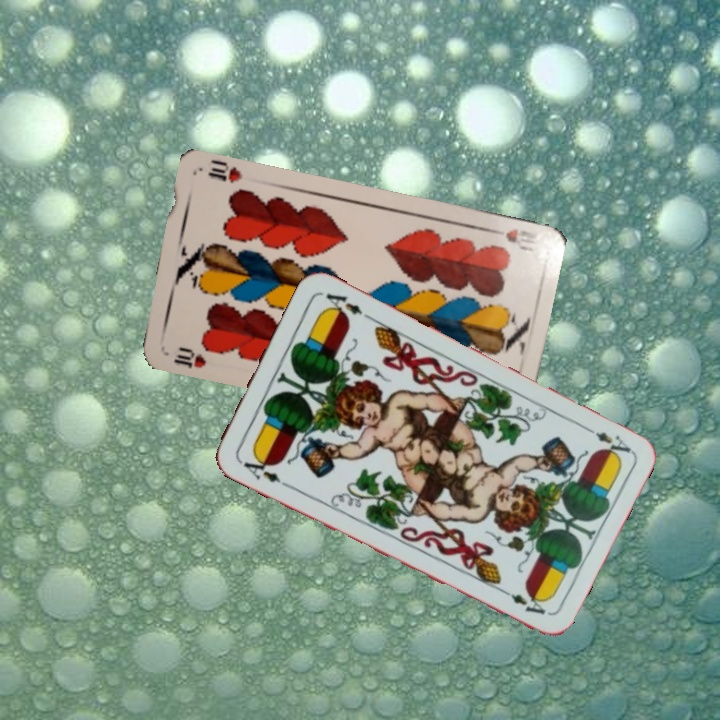EA: (578, 422, 634, 462), (234, 450, 290, 489)
H10: (484, 224, 544, 253), (169, 343, 209, 371)
